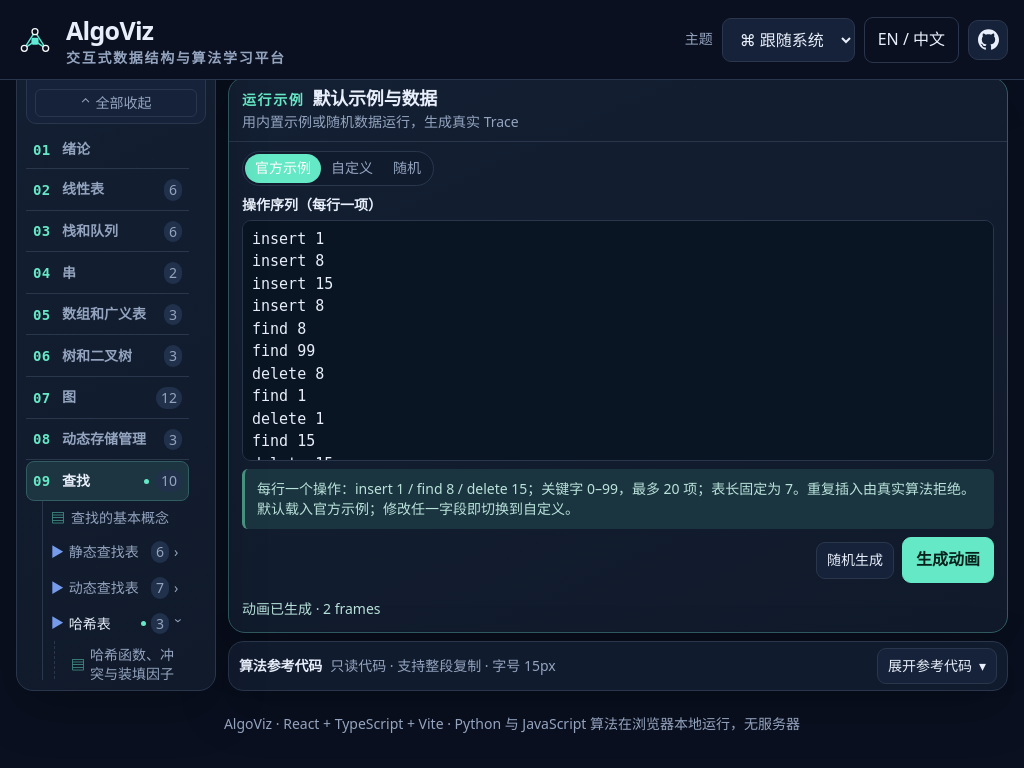
Test case: INPUT-03 — linear search and hash operation inputs › random hash operations only fill the editor before Generate
Earlier steps of the test are not shown.
Later steps or results of the test are not shown.
(page scrolled)
Expected: the element with test id "guided-input" has attribute data-algorithm="hash-chain", [242,152,994,621]
Click the button with test id "random-btn" at [855, 560], box [816,542,894,579]
(page scrolled)
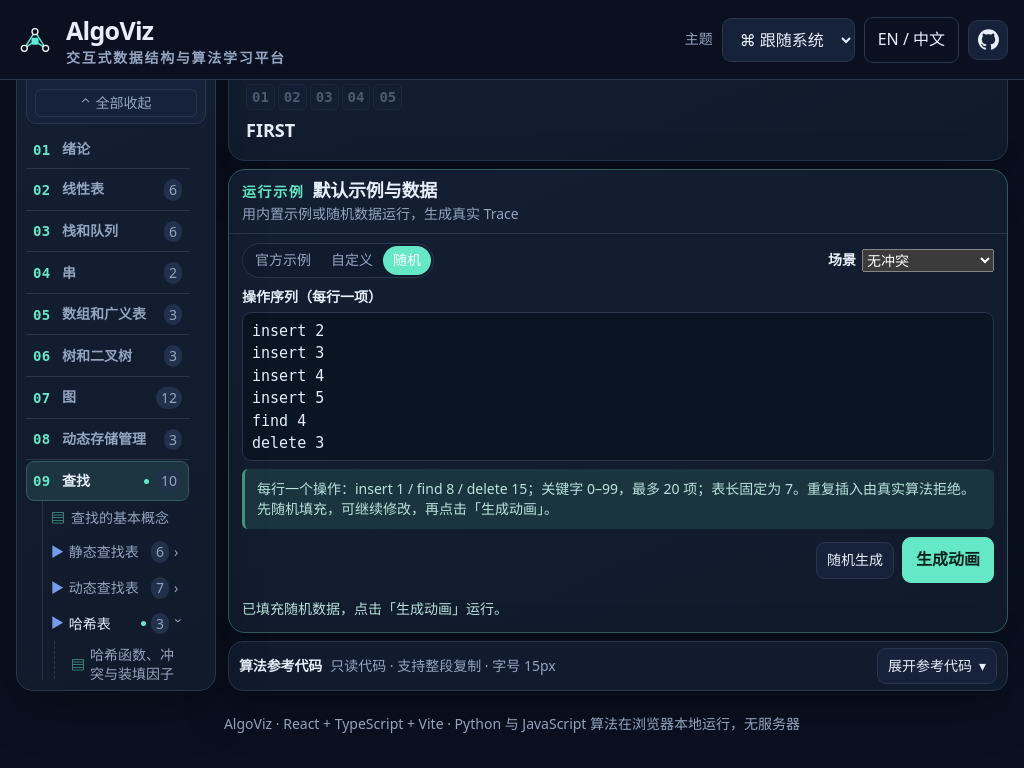
Now the button with test id "guided-mode-random" is pressed, box [383,246,431,275]
